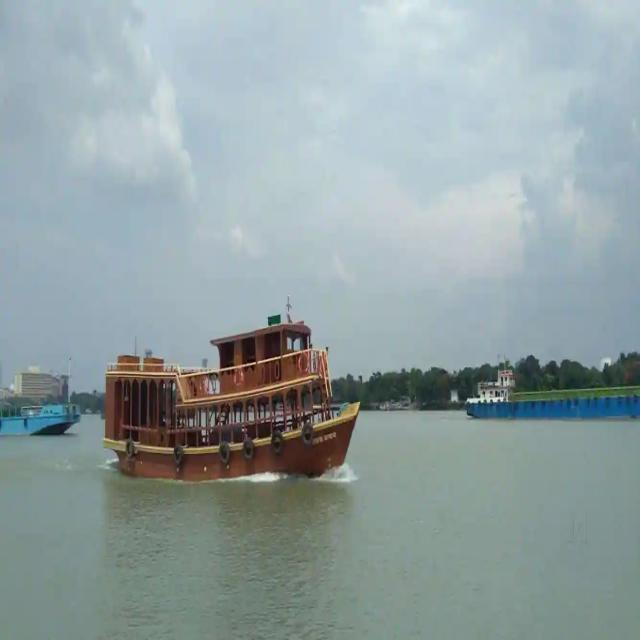cargoship: (456, 369, 640, 439)
